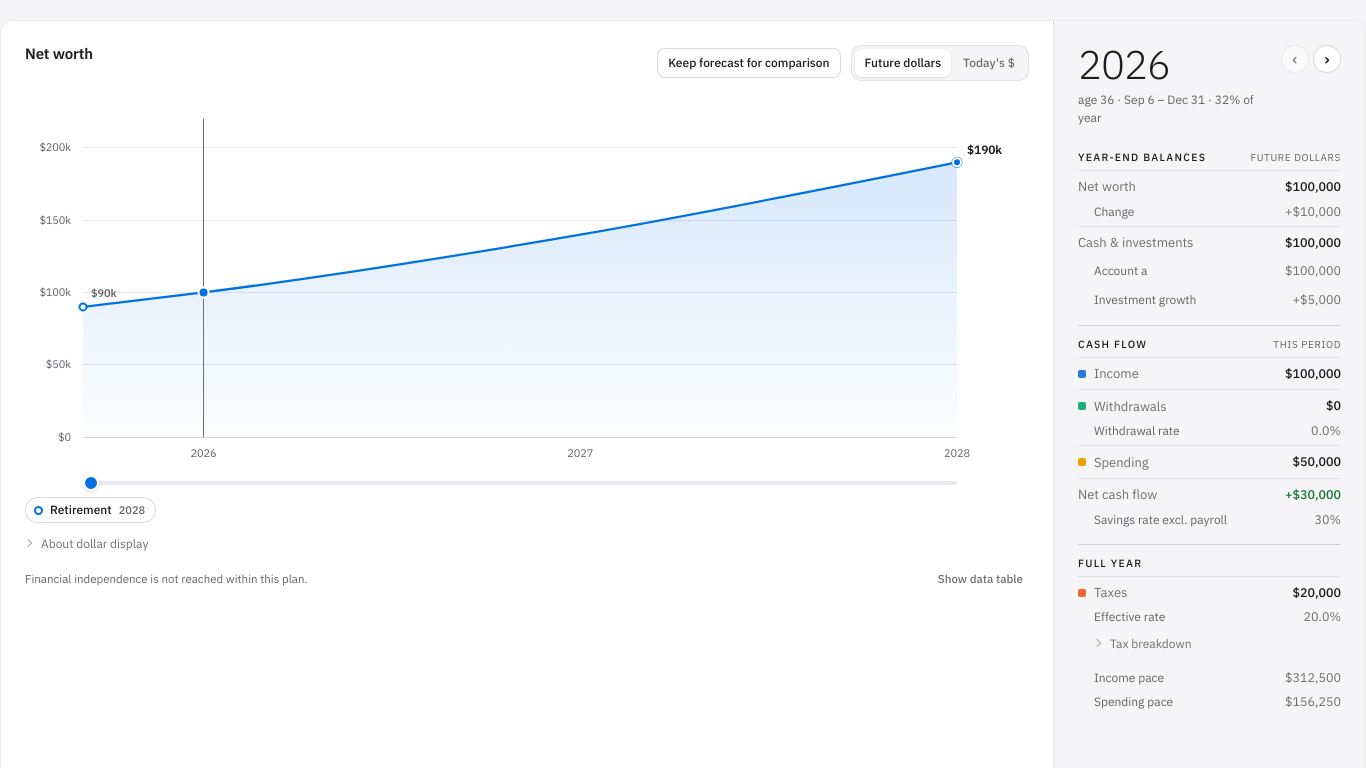
Test case: DashboardView › opens on the first year and moves every panel to the year chosen on the chart
Expected: the text "2026" is shown, [1078,38,1170,90]
Expected: the text "Change" shows "+$10,000", [1285,202,1341,218]
Click the button "Retirement 2028": (91, 510) [25,497,156,523]
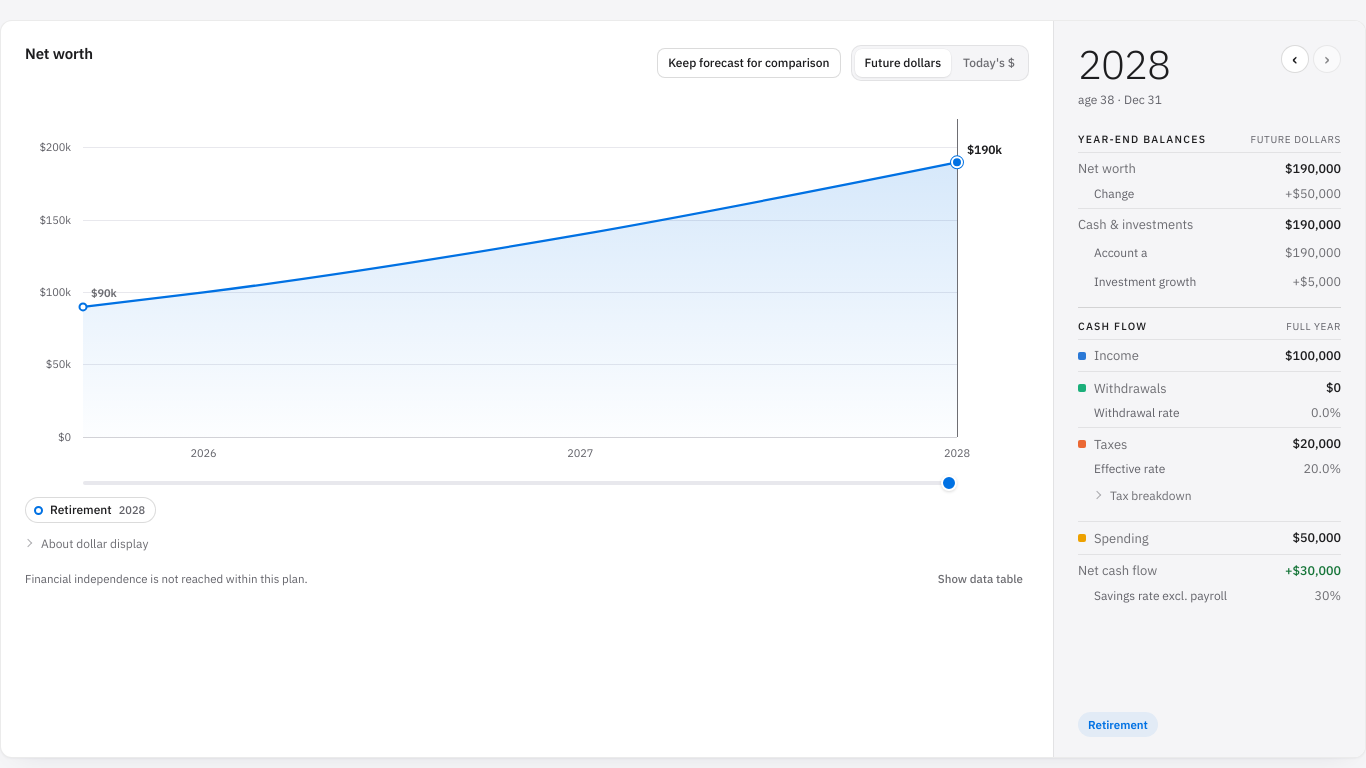
Result: the element named "Year 2028 details" is shown at [1053,21,1365,757]
Result: the slider named "Plan year" holds "2028" at [83,481,957,485]
